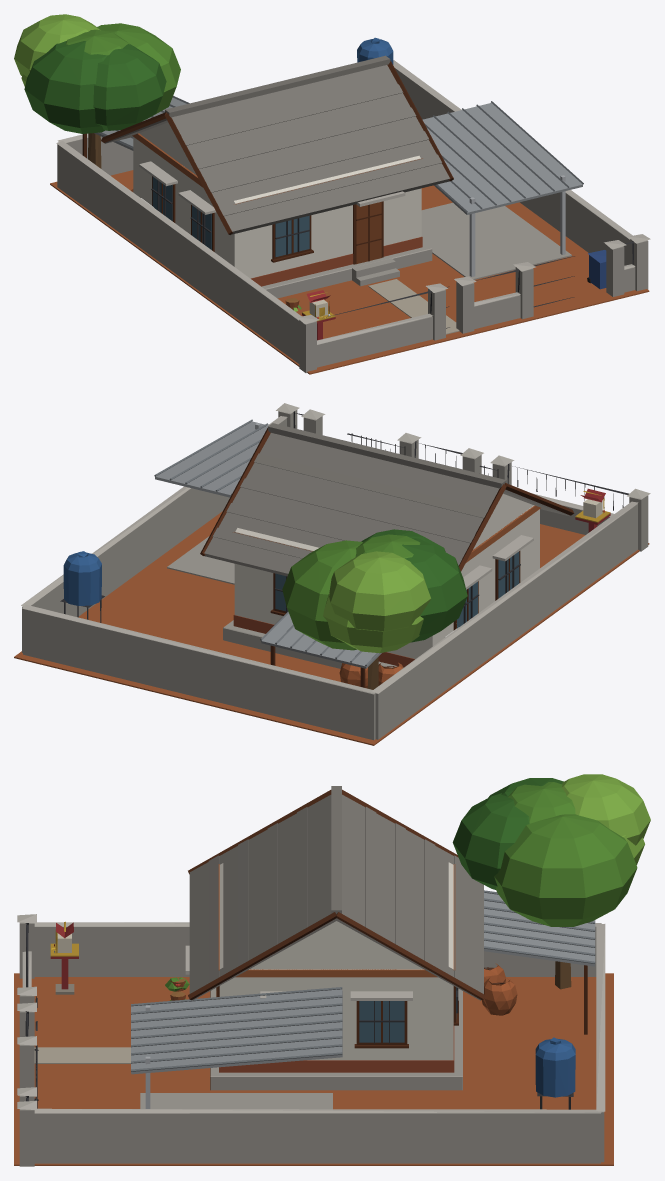
Rendered from house12_1.glb.
3 renders of one model, top to bottom at view 1: azimuth 30°, elevation 25°; view 2: azimuth 150°, elevation 25°; view 3: azimuth 270°, elevation 25°, orthographic. The views are drawn at different scales.
Parts seen in each view (by area): view 1: body, windows; view 2: body, windows; view 3: body, windows.
Part boxes in pixels (x1,y1,x2,y2): body: [14, 14, 650, 374]; windows: [152, 177, 309, 257]; body: [14, 403, 650, 745]; windows: [275, 551, 519, 628]; body: [14, 774, 650, 1166]; windows: [359, 987, 456, 1042].
Bounding box in the file's own units: 13.78 × 6.05 × 16.88.
